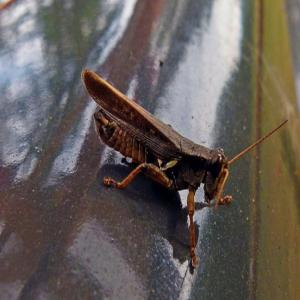locust: (78, 40, 279, 251)
